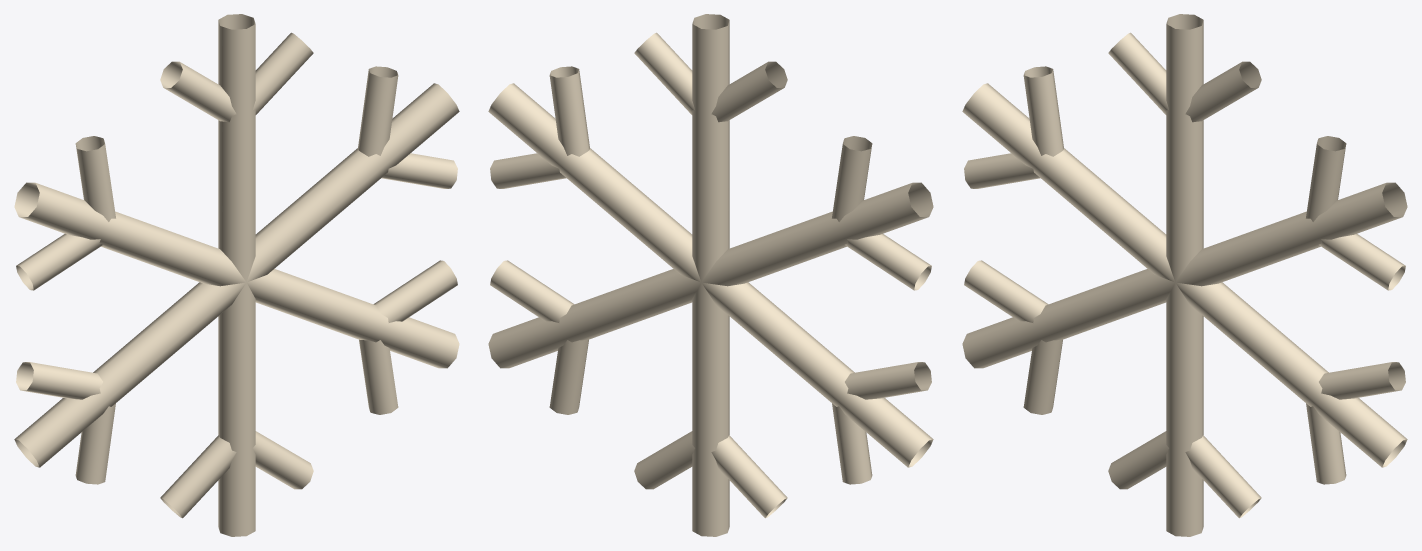
File: snowflake.glb
3 views of the same model, side by side, from view 1: azimuth 30°, elevation 25°; view 2: azimuth 150°, elevation 25°; view 3: azimuth 330°, elevation 25° (orthographic).
Visible parts, largest first — view 1: Tint.012, Tint.003, Tint, Tint.009, Tint.015, Tint.006, Tint.011, Tint.004, Tint.007, Tint.014, Tint.001, Tint.016 (+6 smaller); view 2: Tint.012, Tint.003, Tint, Tint.009, Tint.015, Tint.006, Tint.011, Tint.004, Tint.007, Tint.014, Tint.001, Tint.016 (+6 smaller); view 3: Tint.006, Tint.015, Tint, Tint.009, Tint.003, Tint.012, Tint.010, Tint.017, Tint.014, Tint.007, Tint.002, Tint.005 (+6 smaller).
Boxes of the visible parts, left/top/right/bottom form: Tint.012: left=14, top=282, right=245, bottom=467; Tint.003: left=247, top=83, right=459, bottom=282; Tint: left=218, top=14, right=255, bottom=281; Tint.009: left=218, top=283, right=255, bottom=536; Tint.015: left=14, top=182, right=246, bottom=286; Tint.006: left=246, top=269, right=459, bottom=368; Tint.011: left=160, top=435, right=236, bottom=518; Tint.004: left=358, top=66, right=398, bottom=156; Tint.007: left=373, top=260, right=457, bottom=322; Tint.014: left=16, top=362, right=102, bottom=399; Tint.001: left=160, top=61, right=236, bottom=122; Tint.016: left=16, top=234, right=102, bottom=290; Tint.012: left=702, top=282, right=933, bottom=467; Tint.003: left=488, top=83, right=700, bottom=282; Tint: left=692, top=14, right=729, bottom=281; Tint.009: left=692, top=283, right=729, bottom=536; Tint.015: left=701, top=182, right=933, bottom=286; Tint.006: left=488, top=269, right=701, bottom=368; Tint.011: left=711, top=435, right=787, bottom=518; Tint.004: left=549, top=66, right=589, bottom=156; Tint.007: left=490, top=260, right=574, bottom=322; Tint.014: left=845, top=362, right=931, bottom=399; Tint.001: left=711, top=61, right=787, bottom=122; Tint.016: left=845, top=234, right=931, bottom=290; Tint.006: left=1176, top=282, right=1407, bottom=467; Tint.015: left=962, top=83, right=1174, bottom=282; Tint: left=1166, top=14, right=1203, bottom=281; Tint.009: left=1166, top=283, right=1203, bottom=536; Tint.003: left=1175, top=182, right=1407, bottom=286; Tint.012: left=962, top=269, right=1175, bottom=368; Tint.010: left=1185, top=435, right=1261, bottom=518; Tint.017: left=1023, top=66, right=1063, bottom=156; Tint.014: left=964, top=260, right=1048, bottom=322; Tint.007: left=1319, top=362, right=1405, bottom=399; Tint.002: left=1185, top=61, right=1261, bottom=122; Tint.005: left=1319, top=234, right=1405, bottom=290.
Bounding box in the file's own units: 0.2611 × 0.29 × 0.02.
